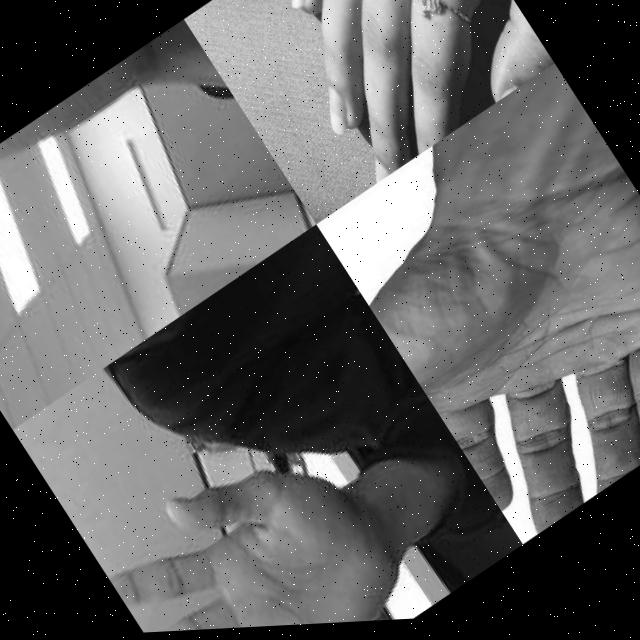hand: (341, 106, 640, 557), (87, 400, 431, 636), (236, 0, 554, 197)
